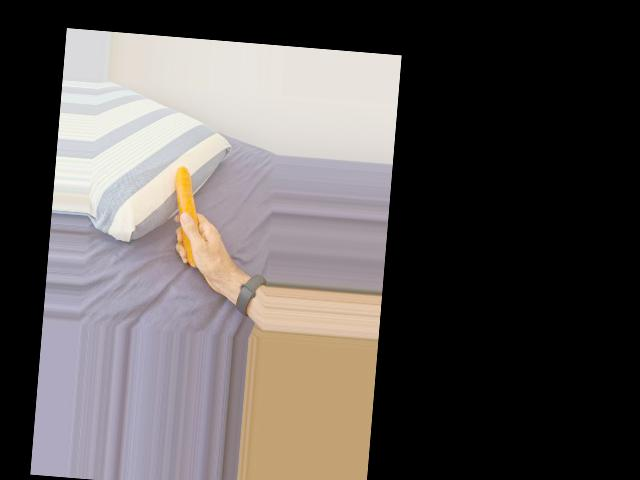carrot: (167, 165, 209, 269)
